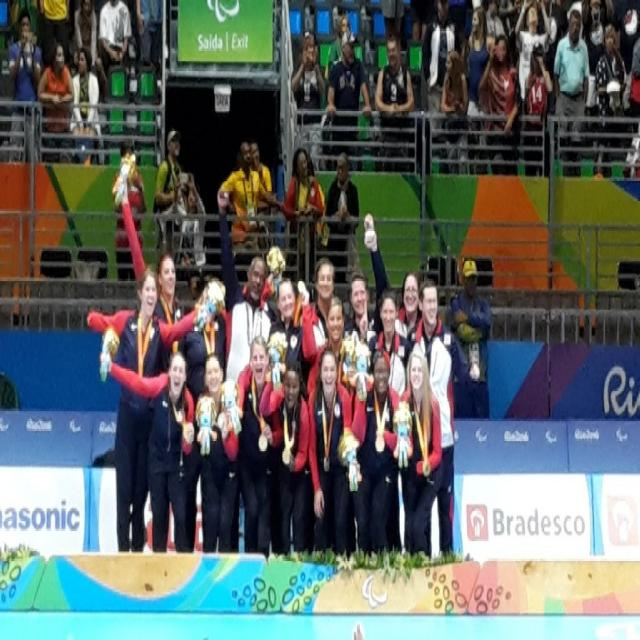body: (86, 262, 226, 554), (97, 324, 195, 554), (405, 277, 480, 560), (216, 256, 278, 554), (176, 276, 228, 552), (225, 254, 272, 556), (116, 161, 190, 352), (306, 345, 363, 561), (234, 333, 284, 562), (192, 351, 245, 556), (258, 359, 312, 555), (218, 141, 286, 283), (398, 348, 443, 562), (357, 346, 402, 556), (448, 255, 493, 418), (306, 294, 357, 426), (477, 32, 522, 180), (282, 146, 324, 304), (326, 29, 372, 172), (552, 9, 590, 177), (421, 0, 464, 144), (6, 8, 42, 164), (374, 34, 413, 172), (594, 24, 628, 182), (362, 213, 404, 340), (367, 288, 415, 398), (112, 135, 147, 281), (266, 276, 311, 384), (324, 150, 360, 284), (36, 40, 74, 164), (513, 0, 553, 107), (524, 39, 553, 177), (440, 48, 469, 178), (97, 0, 132, 104), (152, 128, 182, 249), (290, 28, 327, 126), (465, 3, 496, 119), (71, 46, 101, 164), (342, 266, 378, 346), (174, 182, 207, 268), (623, 1, 639, 168), (308, 255, 339, 341), (38, 0, 70, 77), (135, 0, 164, 81), (374, 0, 430, 40), (248, 137, 273, 215), (583, 0, 608, 77), (72, 0, 97, 74), (327, 14, 350, 80), (487, 0, 527, 26), (308, 143, 324, 194)
